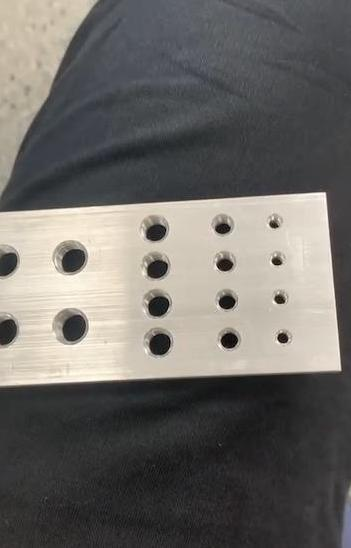hole: (49, 305, 93, 349), (50, 239, 92, 281), (138, 213, 174, 248), (0, 242, 26, 287), (142, 327, 178, 359), (140, 290, 175, 322), (140, 251, 176, 282), (0, 311, 21, 353), (212, 251, 241, 278), (208, 214, 238, 240), (214, 286, 244, 312), (216, 326, 244, 353), (264, 213, 287, 236), (266, 249, 288, 271), (272, 288, 292, 310), (276, 328, 294, 350)
